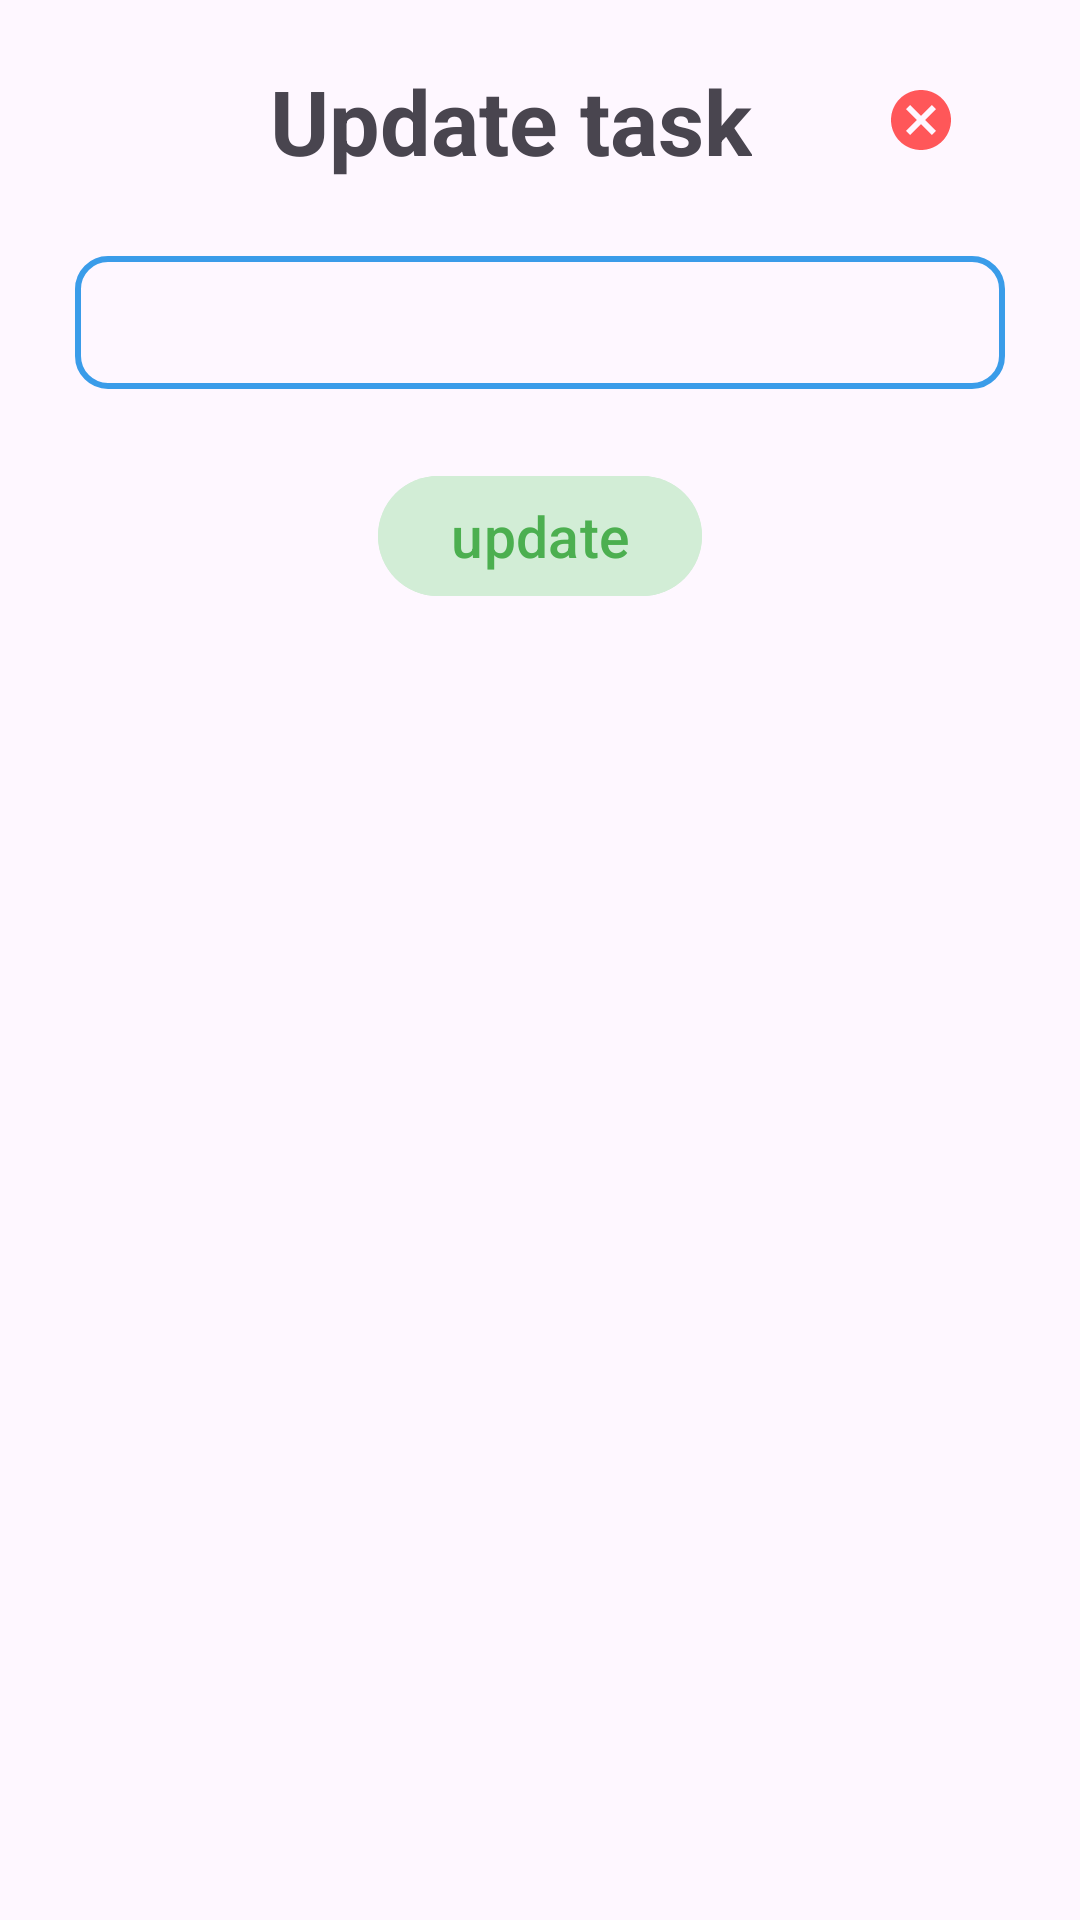

Icon bounding boxes for this 1080px×1920px phone screenshot, format (x1, y1, x2, y2):
delete: (891, 90, 951, 150)
